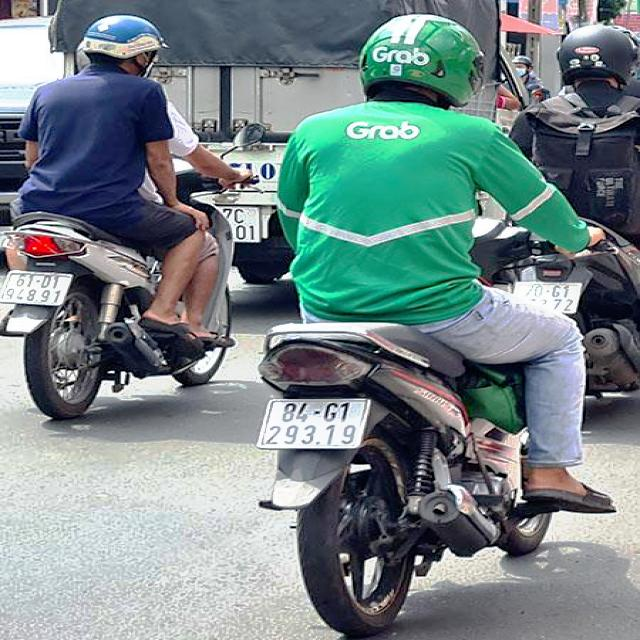license_plate: (262, 401, 370, 449), (2, 273, 74, 308)
